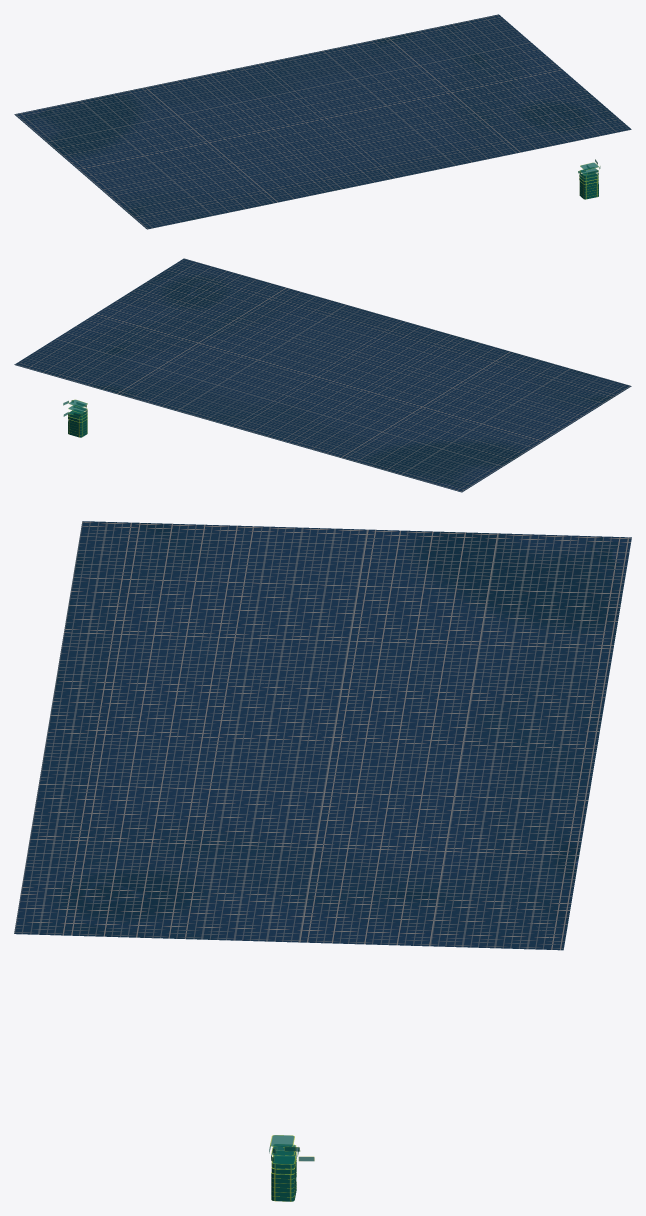
The model's file is portfoliobackground.gltf.
The picture shows the model from 3 angles, top to bottom: view 1: azimuth 30°, elevation 25°; view 2: azimuth 150°, elevation 25°; view 3: azimuth 270°, elevation 25°; orthographic projection. The views are drawn at different scales.
Parts seen in each view (by area): view 1: gridplane, stack2; view 2: gridplane; view 3: gridplane.
Part boxes in pixels (x1,y1,x2,y2): gridplane: (14, 14, 631, 229); stack2: (579, 181, 598, 199); gridplane: (14, 258, 631, 492); gridplane: (14, 521, 631, 950).
Bounding box in the file's own units: 41.64 × 10.06 × 24.17.
Materials: 3 (3 with a texture image).
